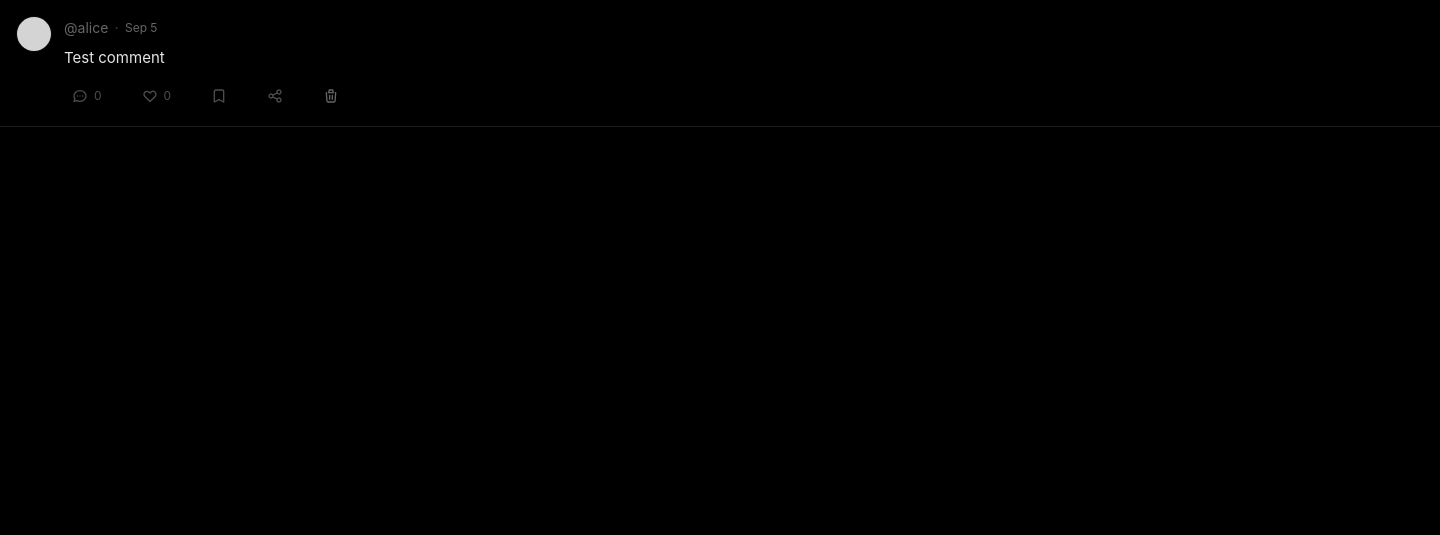
Test case: CommentCard › closes the delete modal after handleDelete resolves to true
This screenshot has width=1440, height=535.
Click the button named "delete comment" at (331, 96), box [315, 82, 347, 110]
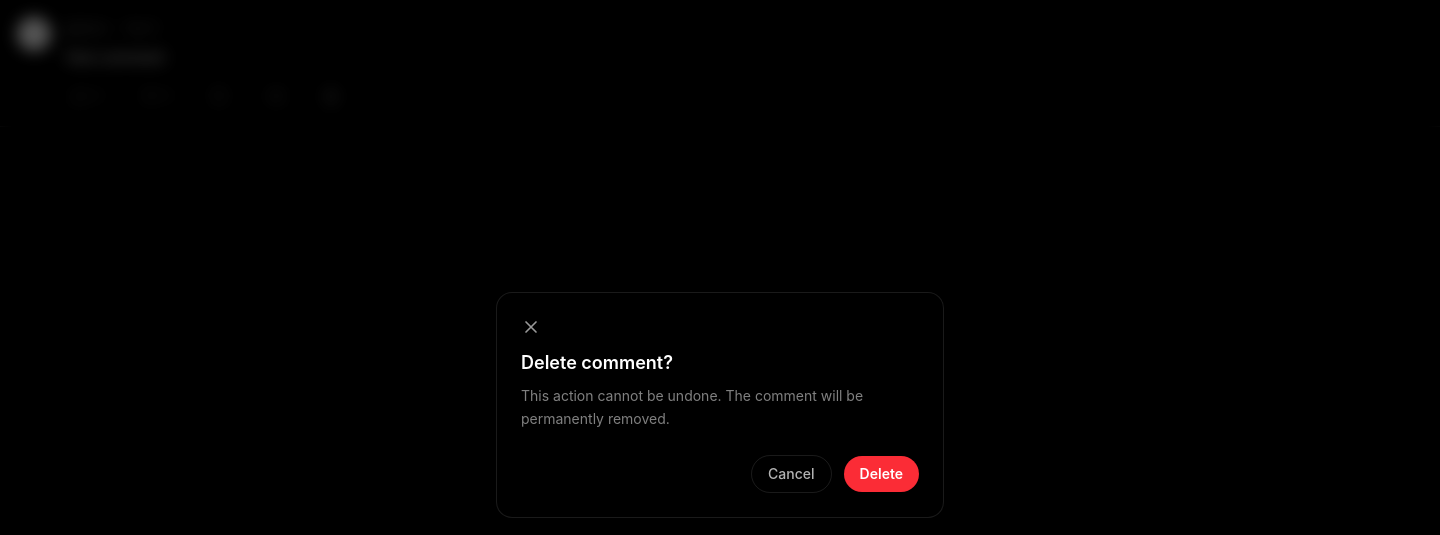
Expected: the heading "Delete comment?" is shown, [521, 352, 673, 373]
Click the button "Delete" at (881, 474), box [844, 456, 919, 492]
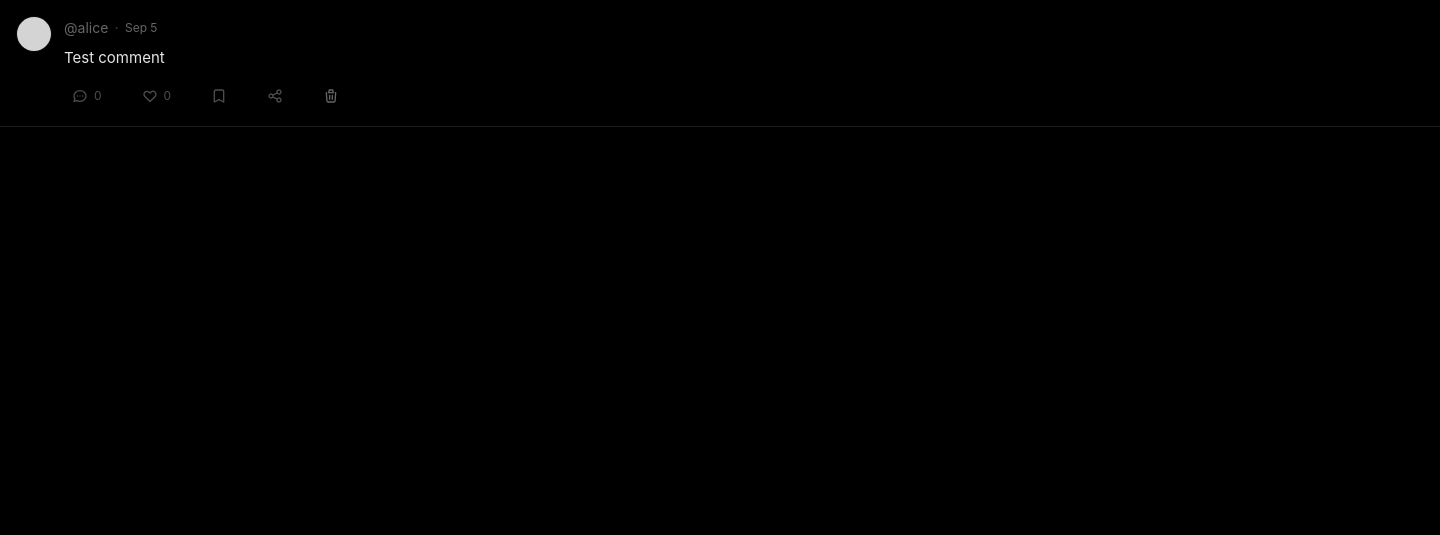
Expected: the heading "Delete comment?" is gone
